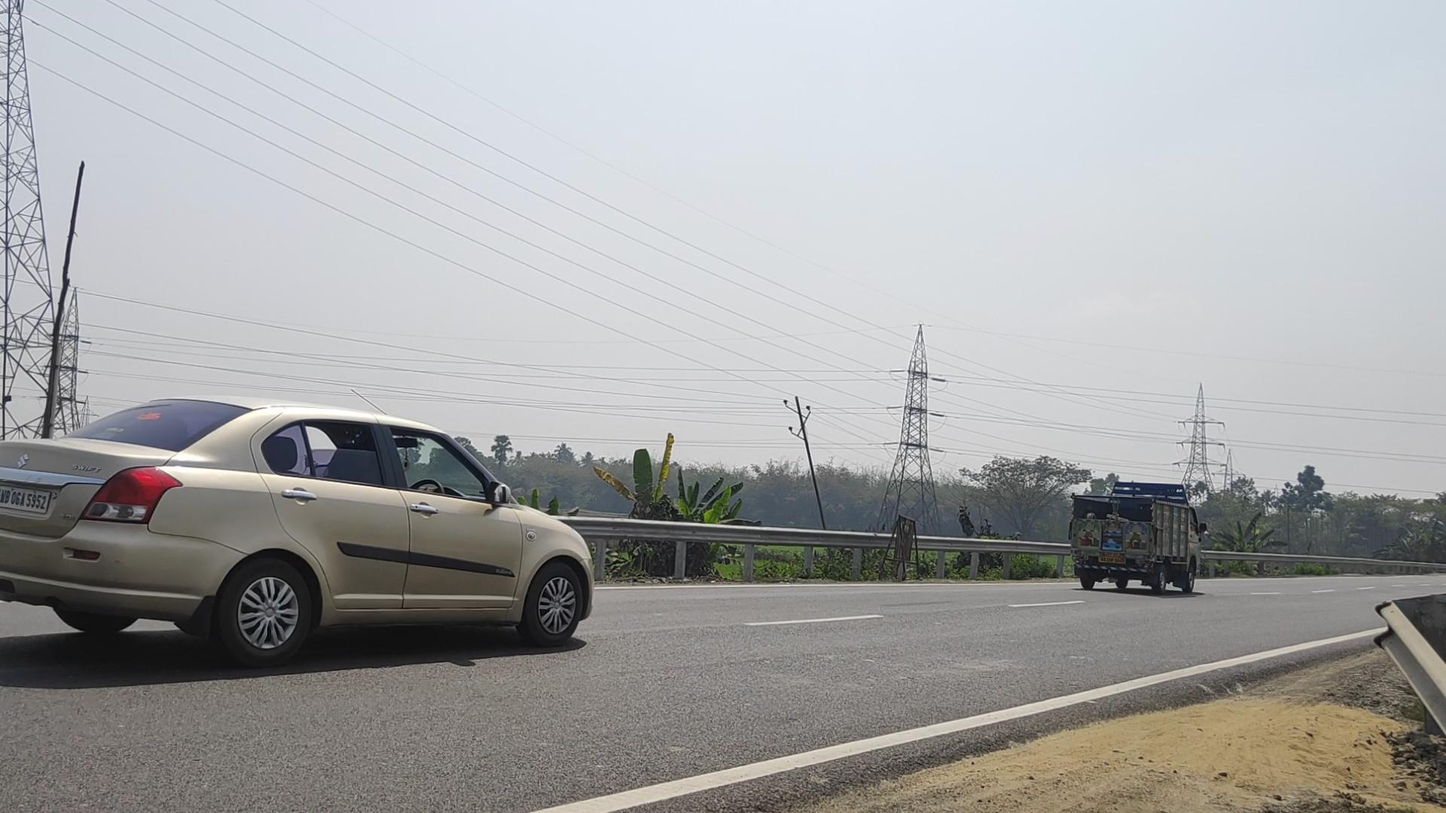car: (1, 394, 593, 668)
van: (1068, 481, 1209, 596)
